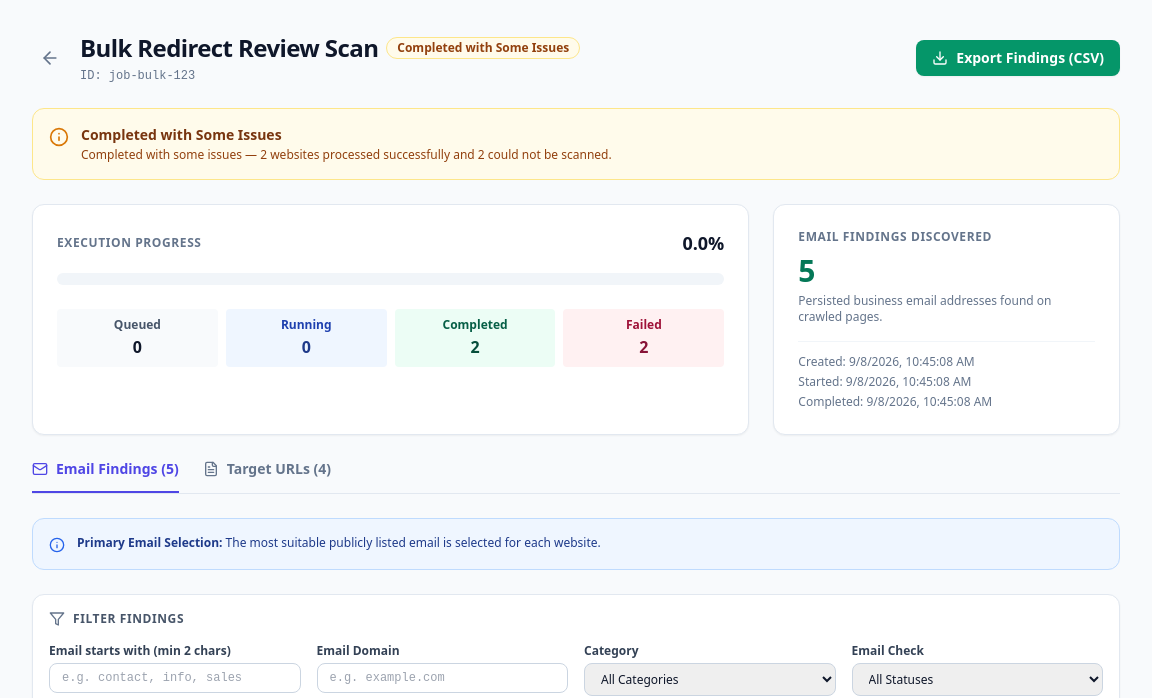
Test case: Bulk Redirect Review Web UI › prunes stale selections when refresh occurs and rows no longer require approval
Check: the text "Target URLs (4)" is shown, box [227,459,331,479]
Click the button "Target URLs (4)": (267, 476) [203,459,331,493]
(page scrolled)
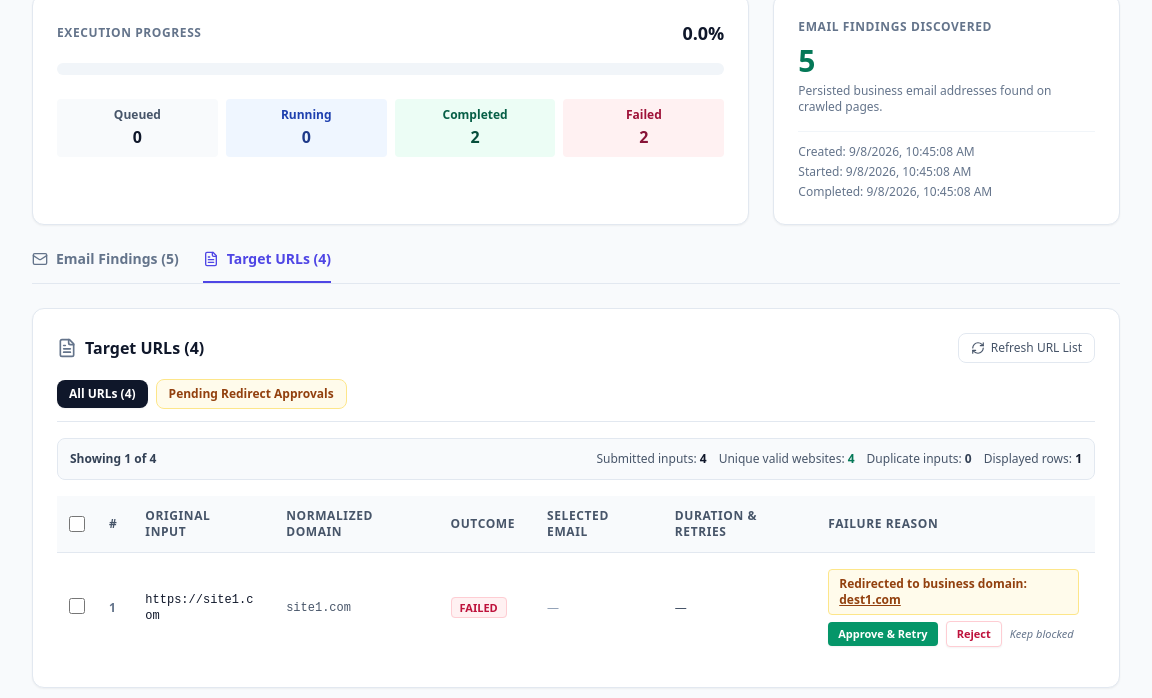
Check: the checkbox named "Select redirect for site1.com" is shown
Click the checkbox named "Select redirect for site1.com": (77, 606) [69,598,85,614]
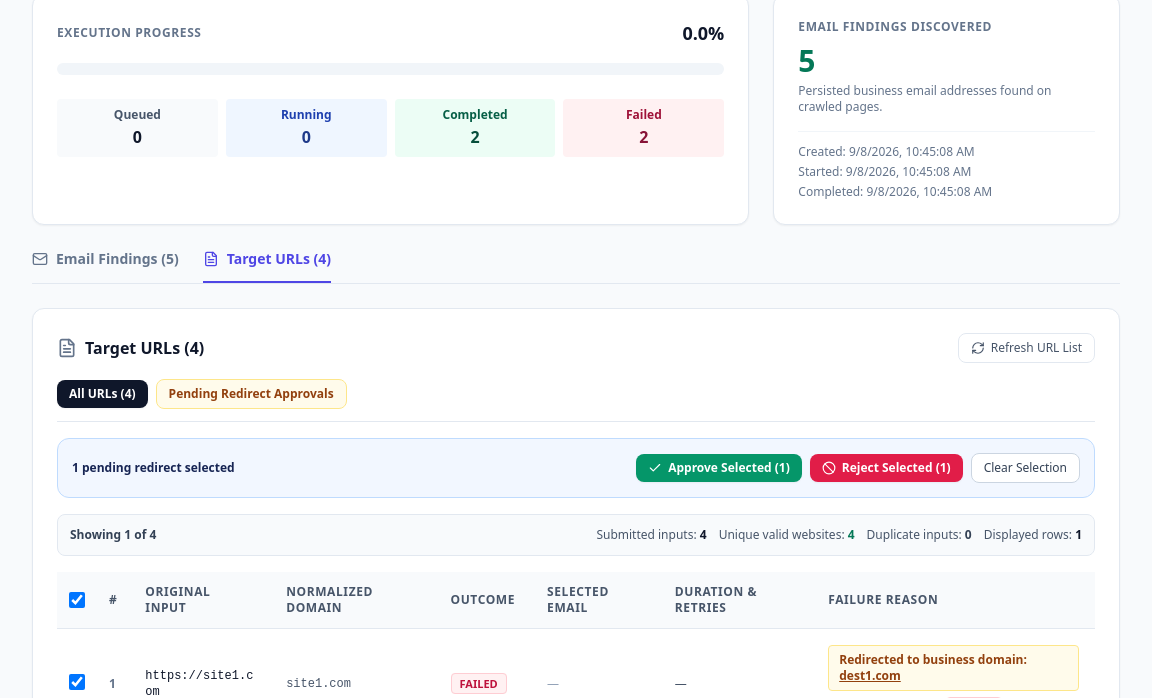
Check: the text "1 pending redirect selected" is shown, box [72,460,235,476]
// Click Refresh URL List
Click the button "Refresh URL List": (1026, 348) [958,333,1095,363]
(page scrolled)
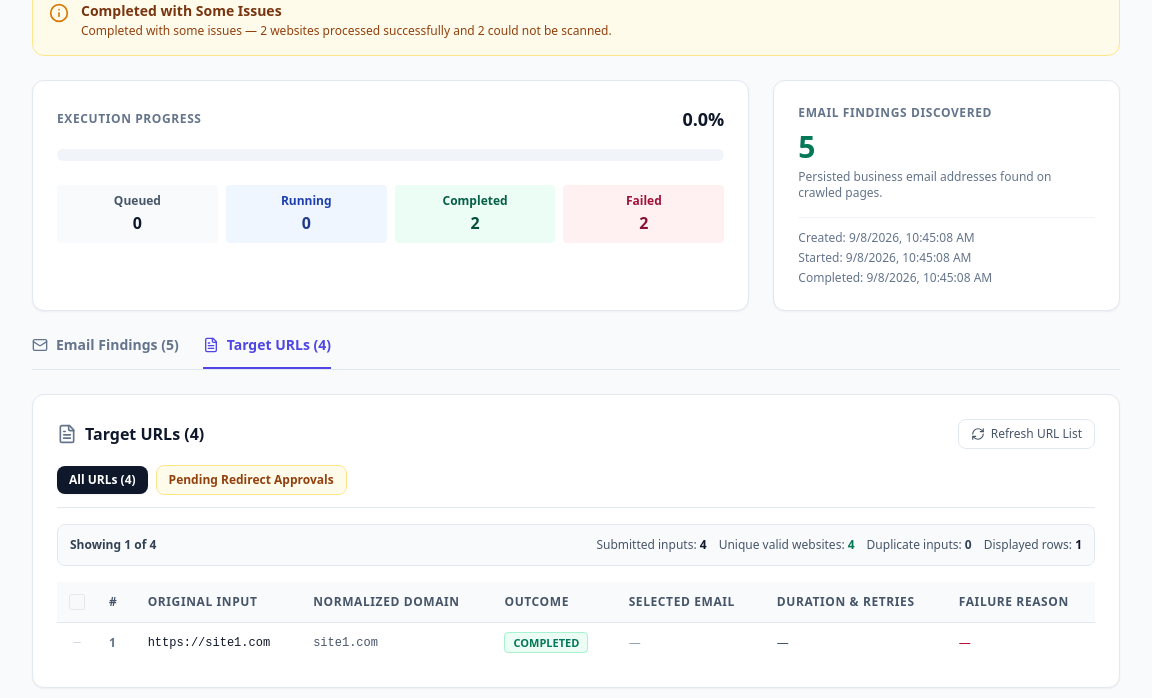
Check: the text "1 pending redirect selected" is gone
